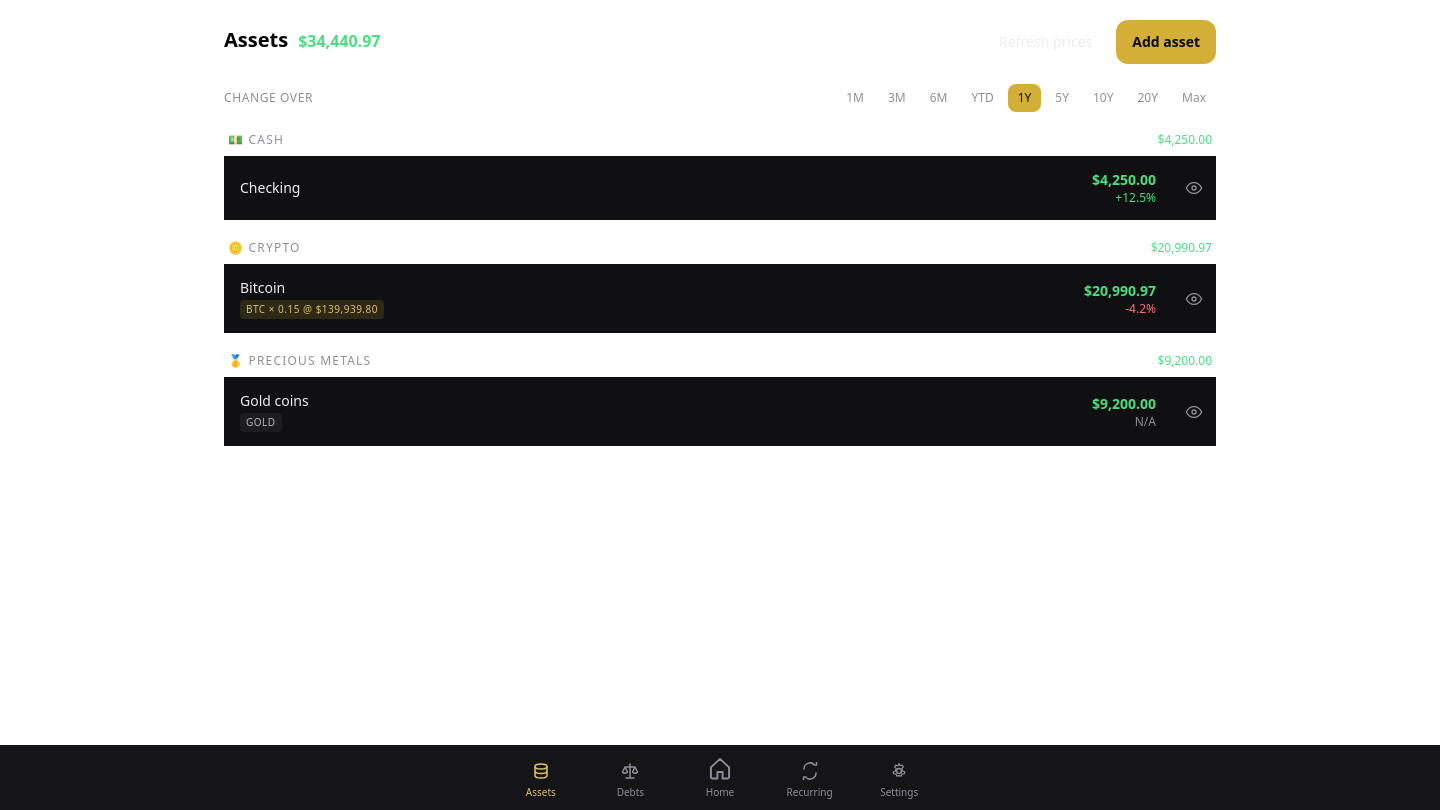
Test: assets page › shows a per-holding percent change for the selected range
The width and height of the screenshot is (1440, 810).
Expected: the text "+12.5%" is shown, [1115, 190, 1156, 206]
Expected: the text "-4.2%" is shown, [1125, 300, 1156, 316]
Note: Switching the range refetches and shows the new figures.
What coordinates should you click on to do the following:
click the button "1M"
I would click on:
 (855, 98)
Its box is [836, 84, 874, 112].
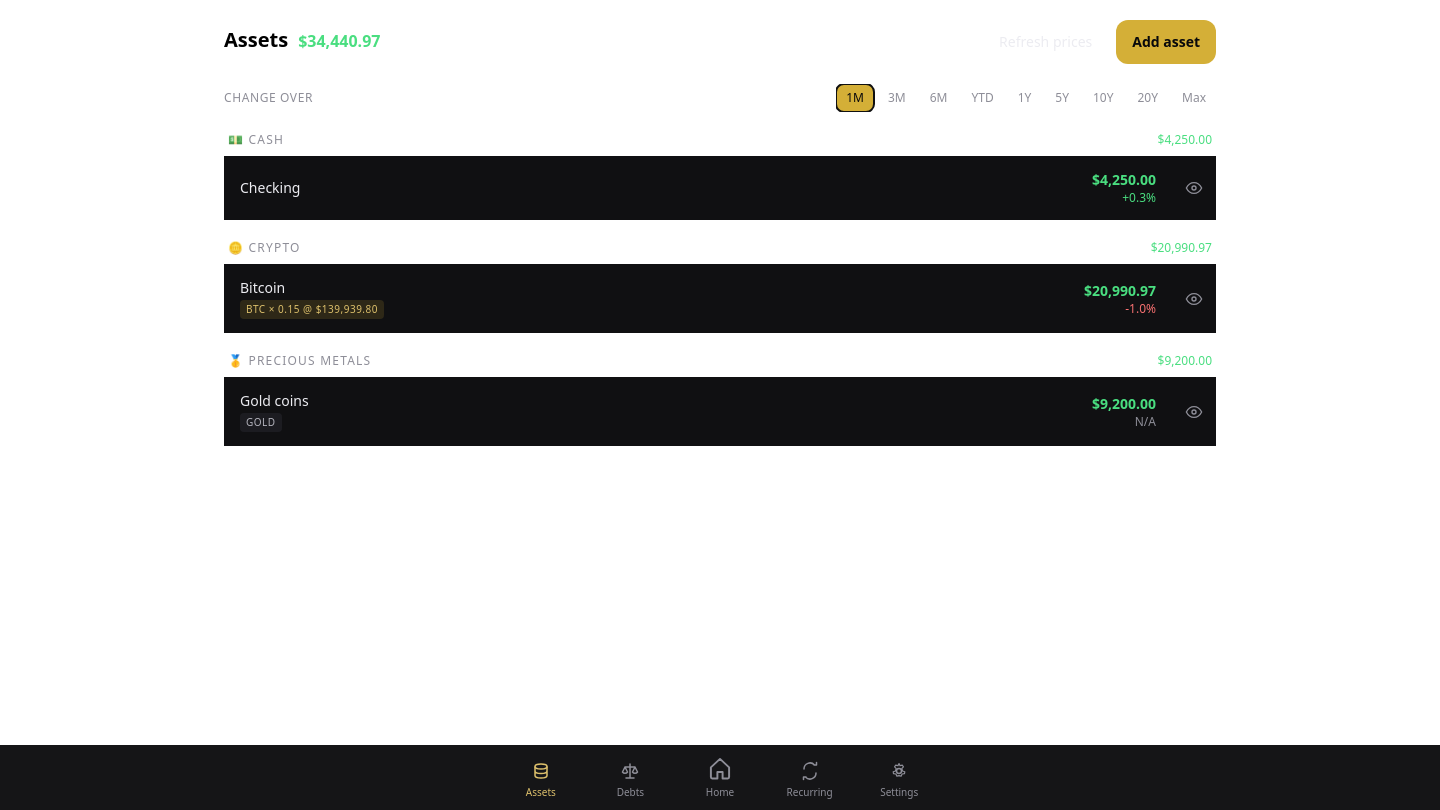
Expected: the text "+0.3%" is shown, [1122, 190, 1156, 206]
